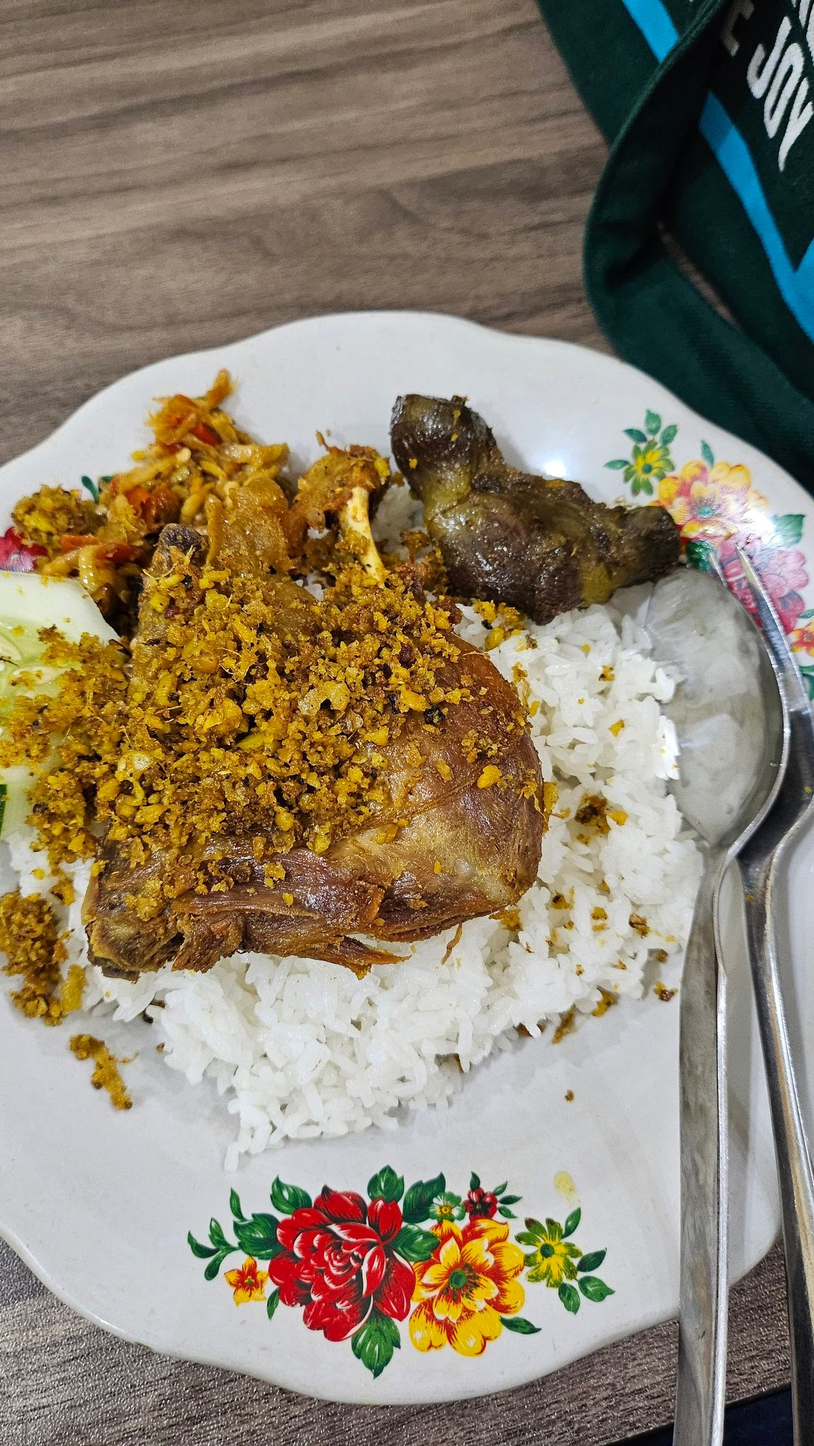daging: (79, 561, 508, 920)
makanan_berpati: (92, 964, 621, 1165)
